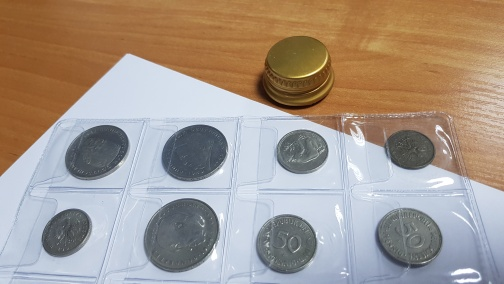coin: (142, 197, 221, 274), (375, 207, 443, 269), (161, 124, 229, 182), (255, 214, 318, 275), (64, 125, 130, 181), (41, 208, 93, 259), (274, 129, 329, 175), (383, 129, 436, 171)
